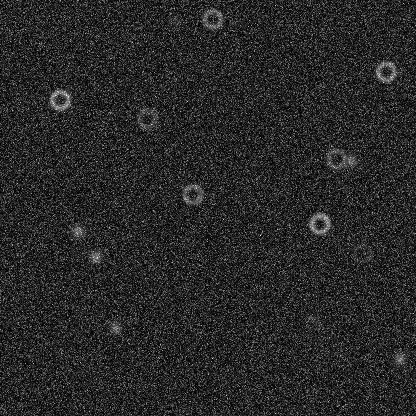Ring: (180, 182, 204, 206), (315, 332, 339, 356), (200, 7, 224, 31), (324, 146, 348, 170), (373, 59, 397, 83), (349, 241, 373, 265), (47, 87, 71, 111), (134, 106, 158, 130), (307, 211, 331, 235)
Spot: (87, 248, 103, 264), (343, 152, 359, 168), (107, 319, 123, 335), (305, 310, 321, 326), (167, 13, 183, 29), (391, 350, 407, 366), (70, 223, 86, 239)
